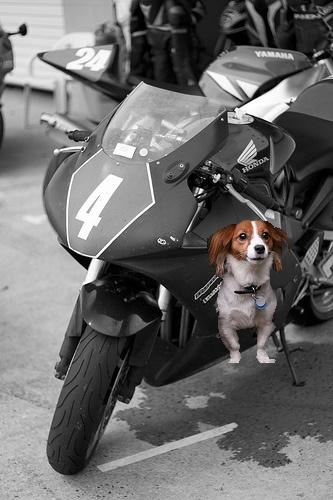tampered: (208, 221, 290, 363)
